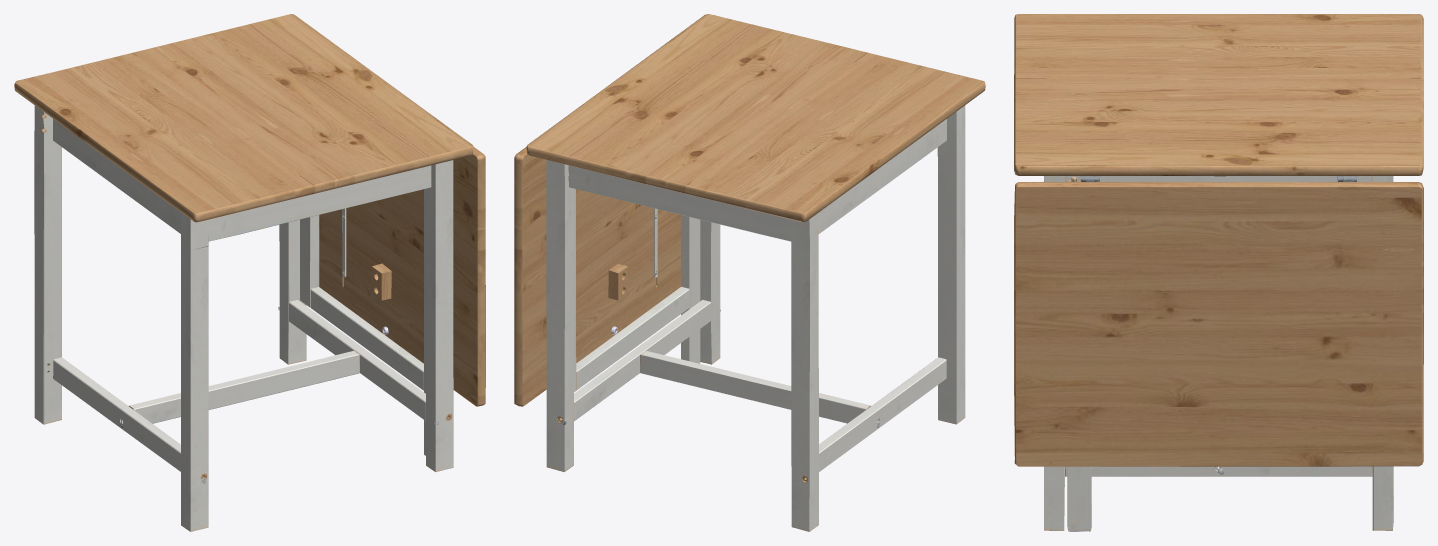
The model's file is pinntorp_table.glb.
3 renders of one model, left to right at view 1: azimuth 30°, elevation 25°; view 2: azimuth 150°, elevation 25°; view 3: azimuth 270°, elevation 25°, orthographic. The views are drawn at different scales.
Parts seen in each view (by area): view 1: ASY_ART_70529465_S01_NV01; view 2: ASY_ART_70529465_S01_NV01; view 3: ASY_ART_70529465_S01_NV01.
Part boxes in pixels (x1,y1,x2,y2): ASY_ART_70529465_S01_NV01: [14, 14, 485, 531]; ASY_ART_70529465_S01_NV01: [514, 14, 985, 531]; ASY_ART_70529465_S01_NV01: [1014, 14, 1423, 531].
Bounding box in the file's own units: 0.6915 × 0.7501 × 0.7511.
1 material, 1 textured.
